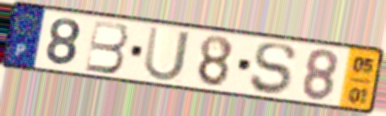8: (302, 47, 341, 102), (196, 34, 235, 89), (45, 17, 83, 67)
B: (83, 18, 130, 75)
S: (248, 42, 298, 96)
U: (141, 24, 192, 84)
